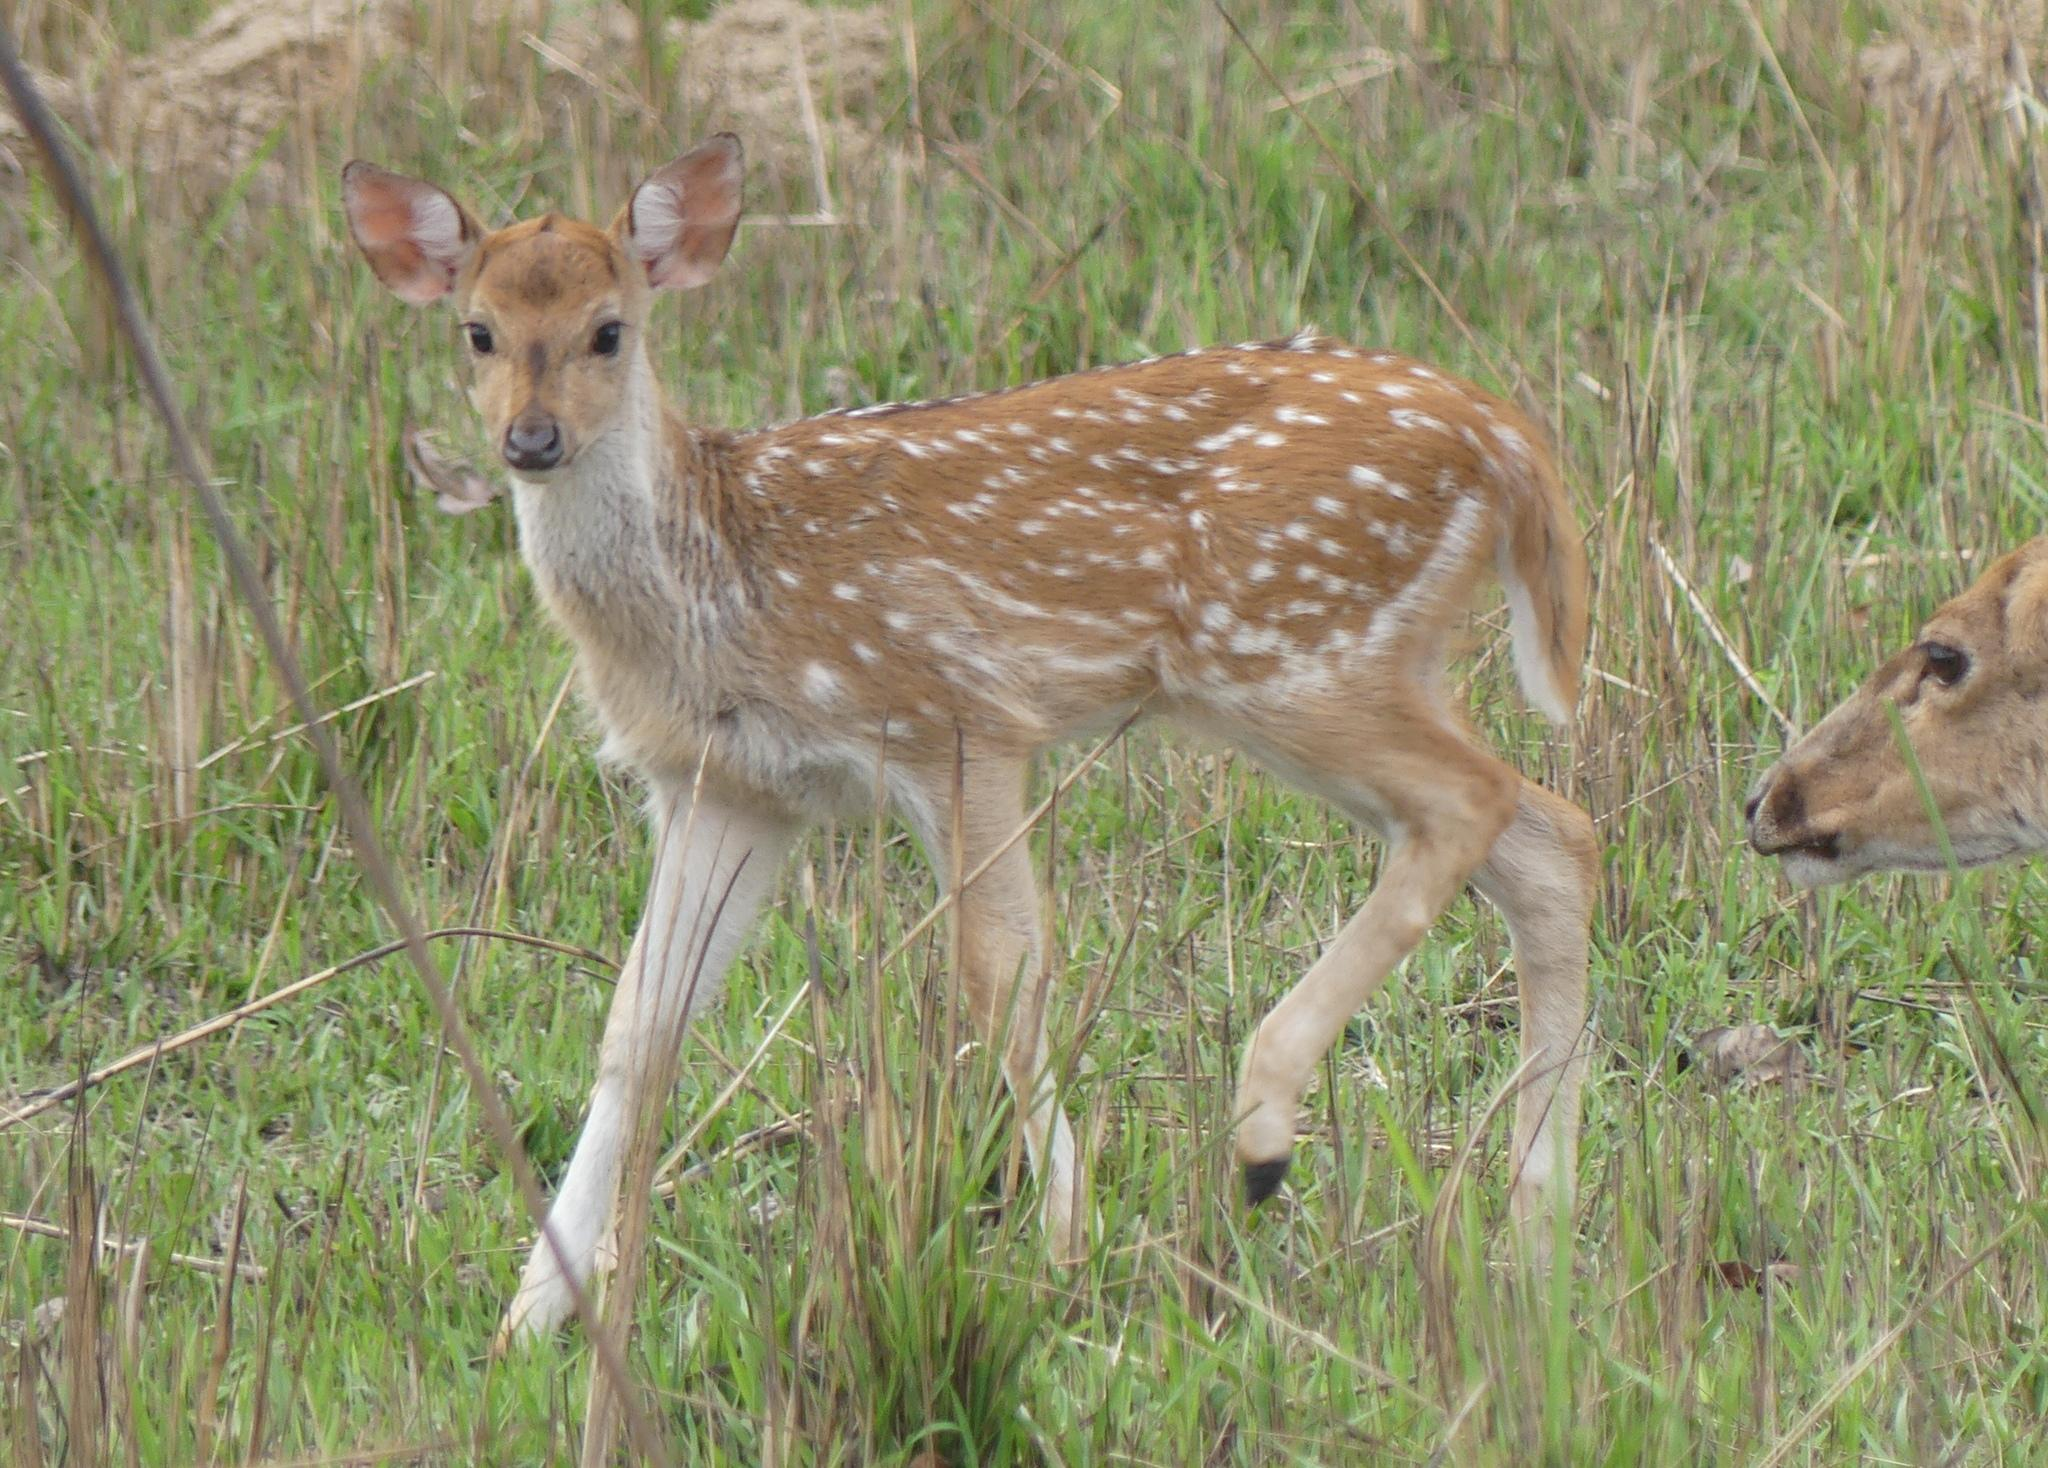Deer: (343, 133, 1597, 1331), (1745, 535, 2046, 887)
